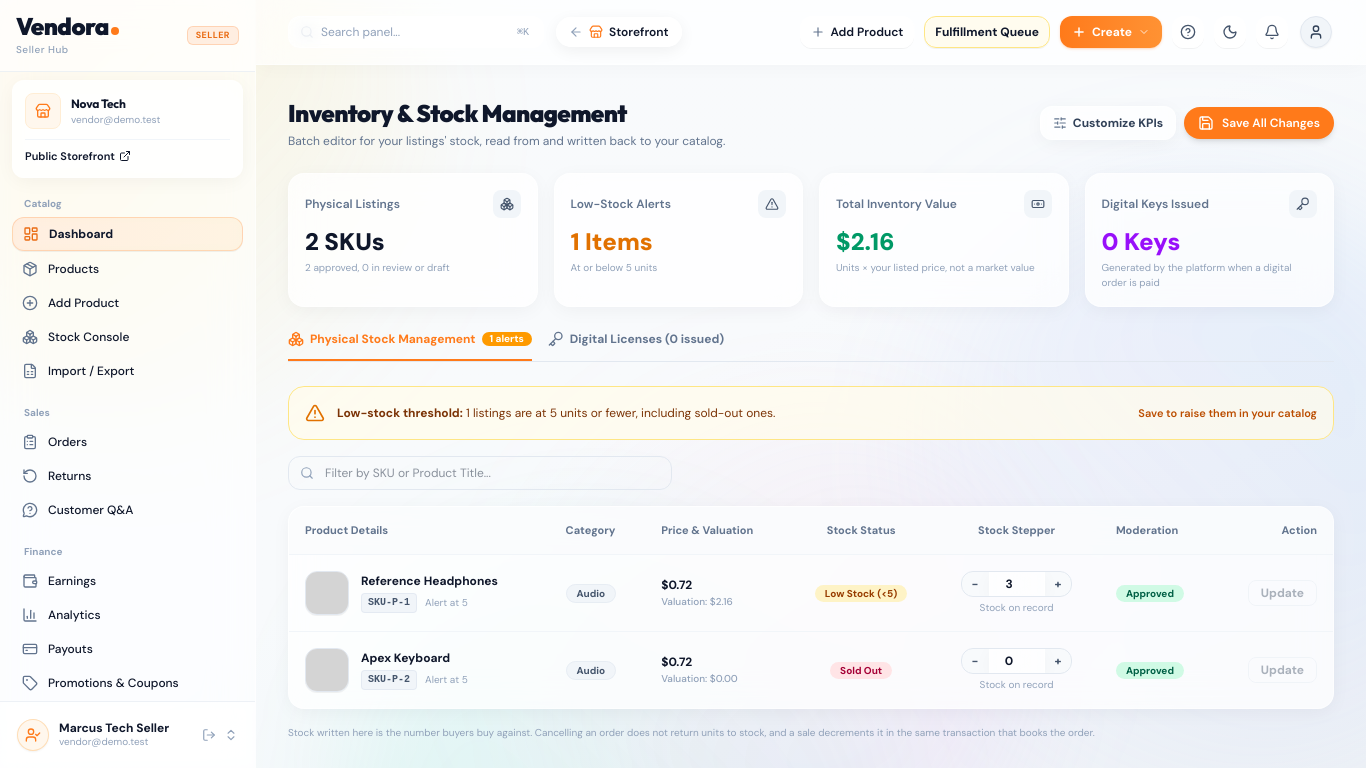
Test: VendorInventoryPage › writes one row’s stock back to the catalog when the seller saves it
The image size is (1366, 768).
Click the button titled "Increment stock" in the row of "Reference Headphones": (1058, 584) [1044, 572, 1072, 596]
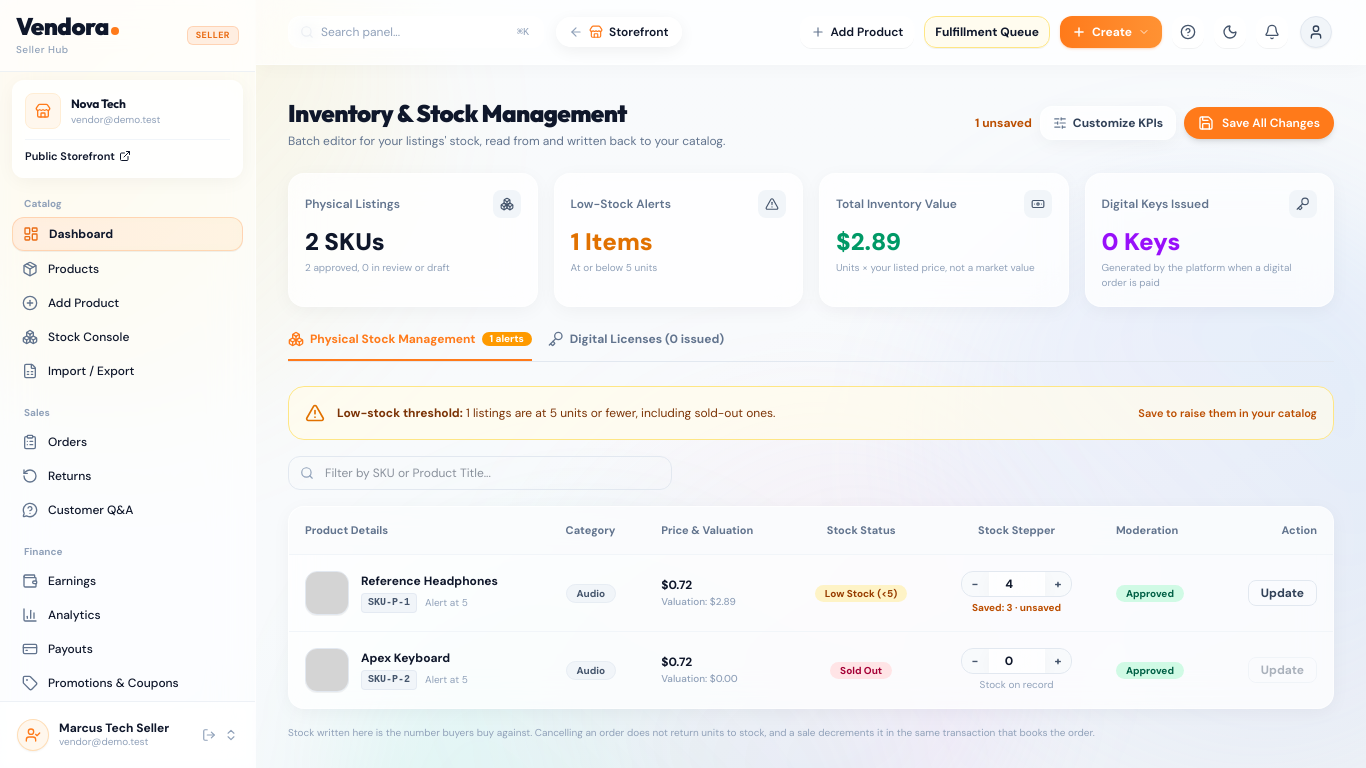
Now the button "Update" in the row of "Reference Headphones" is enabled
Click the button "Update" in the row of "Reference Headphones": (1282, 593) [1248, 580, 1317, 606]
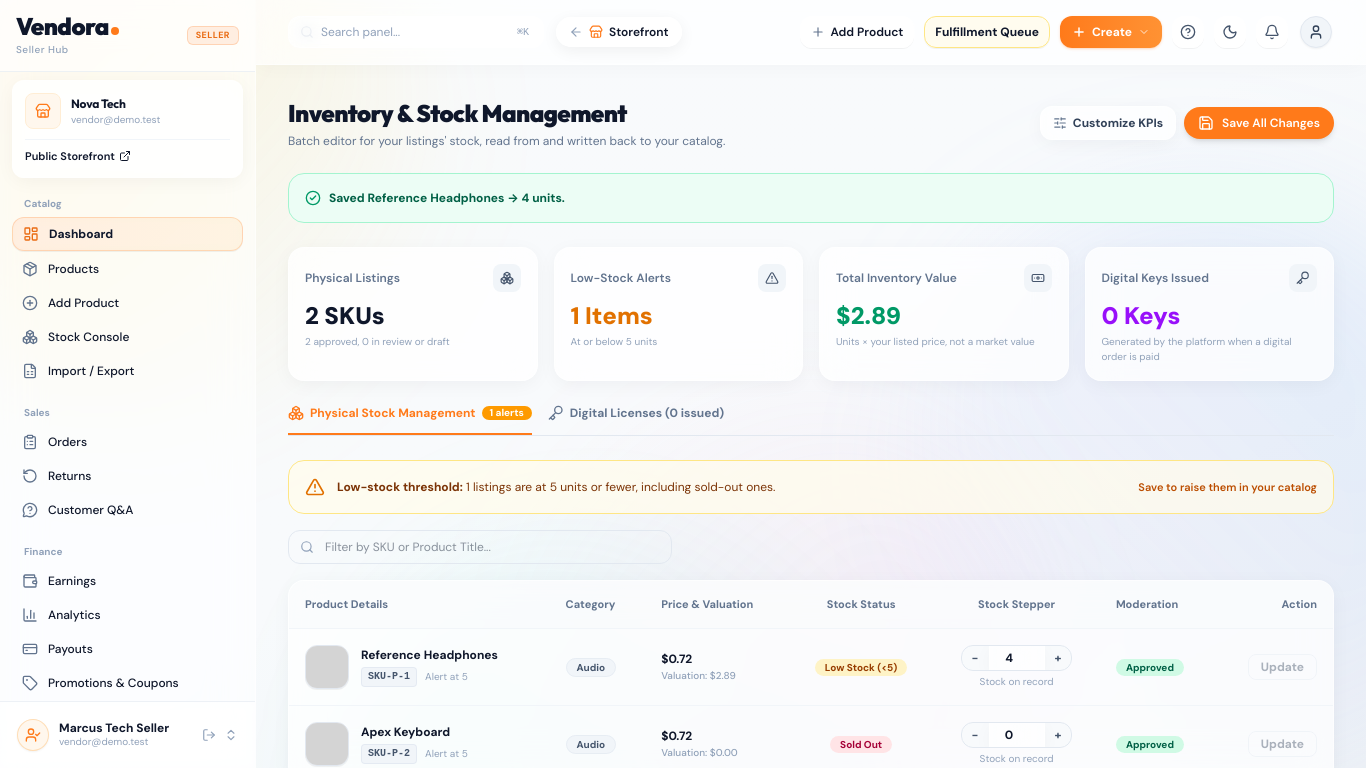
Now the text "Saved Reference Headphones → 4 units." is shown, box [288, 173, 1334, 223]
